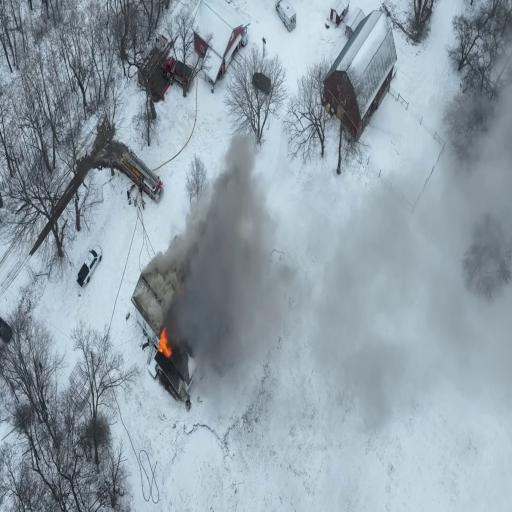fire: (158, 331, 172, 357)
smoke: (183, 218, 252, 330)
